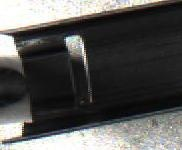press: (0, 12, 125, 144)
